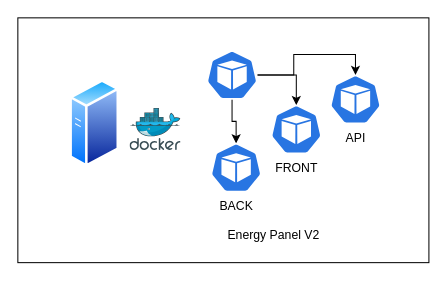
This 447x281 diagram has some shape labels left out. Here are the shapes that lost their labels. From the top down, the centre of each, then its label:
the point at 232,74: NGINX : 80
the point at 94,123: Server Ubuntu Docker Compose Expose 80
